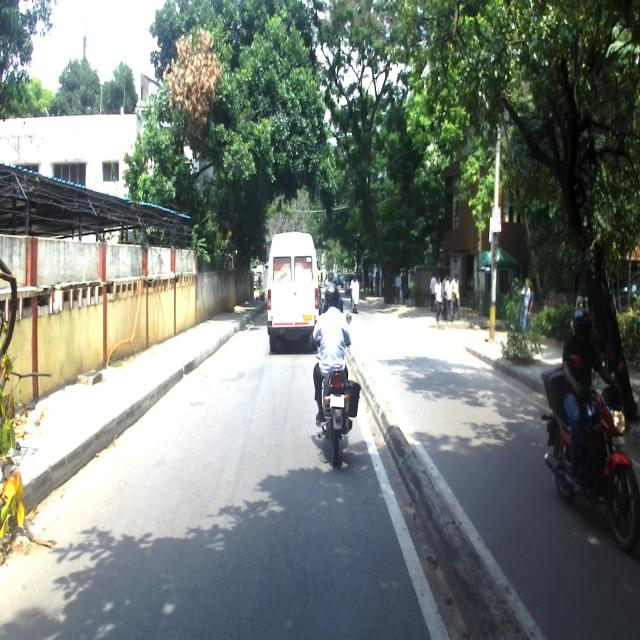mini-bus: (266, 231, 322, 354)
motorcycle_Hero: (540, 354, 639, 546)
motorcycle_bajaj: (309, 312, 361, 467)
